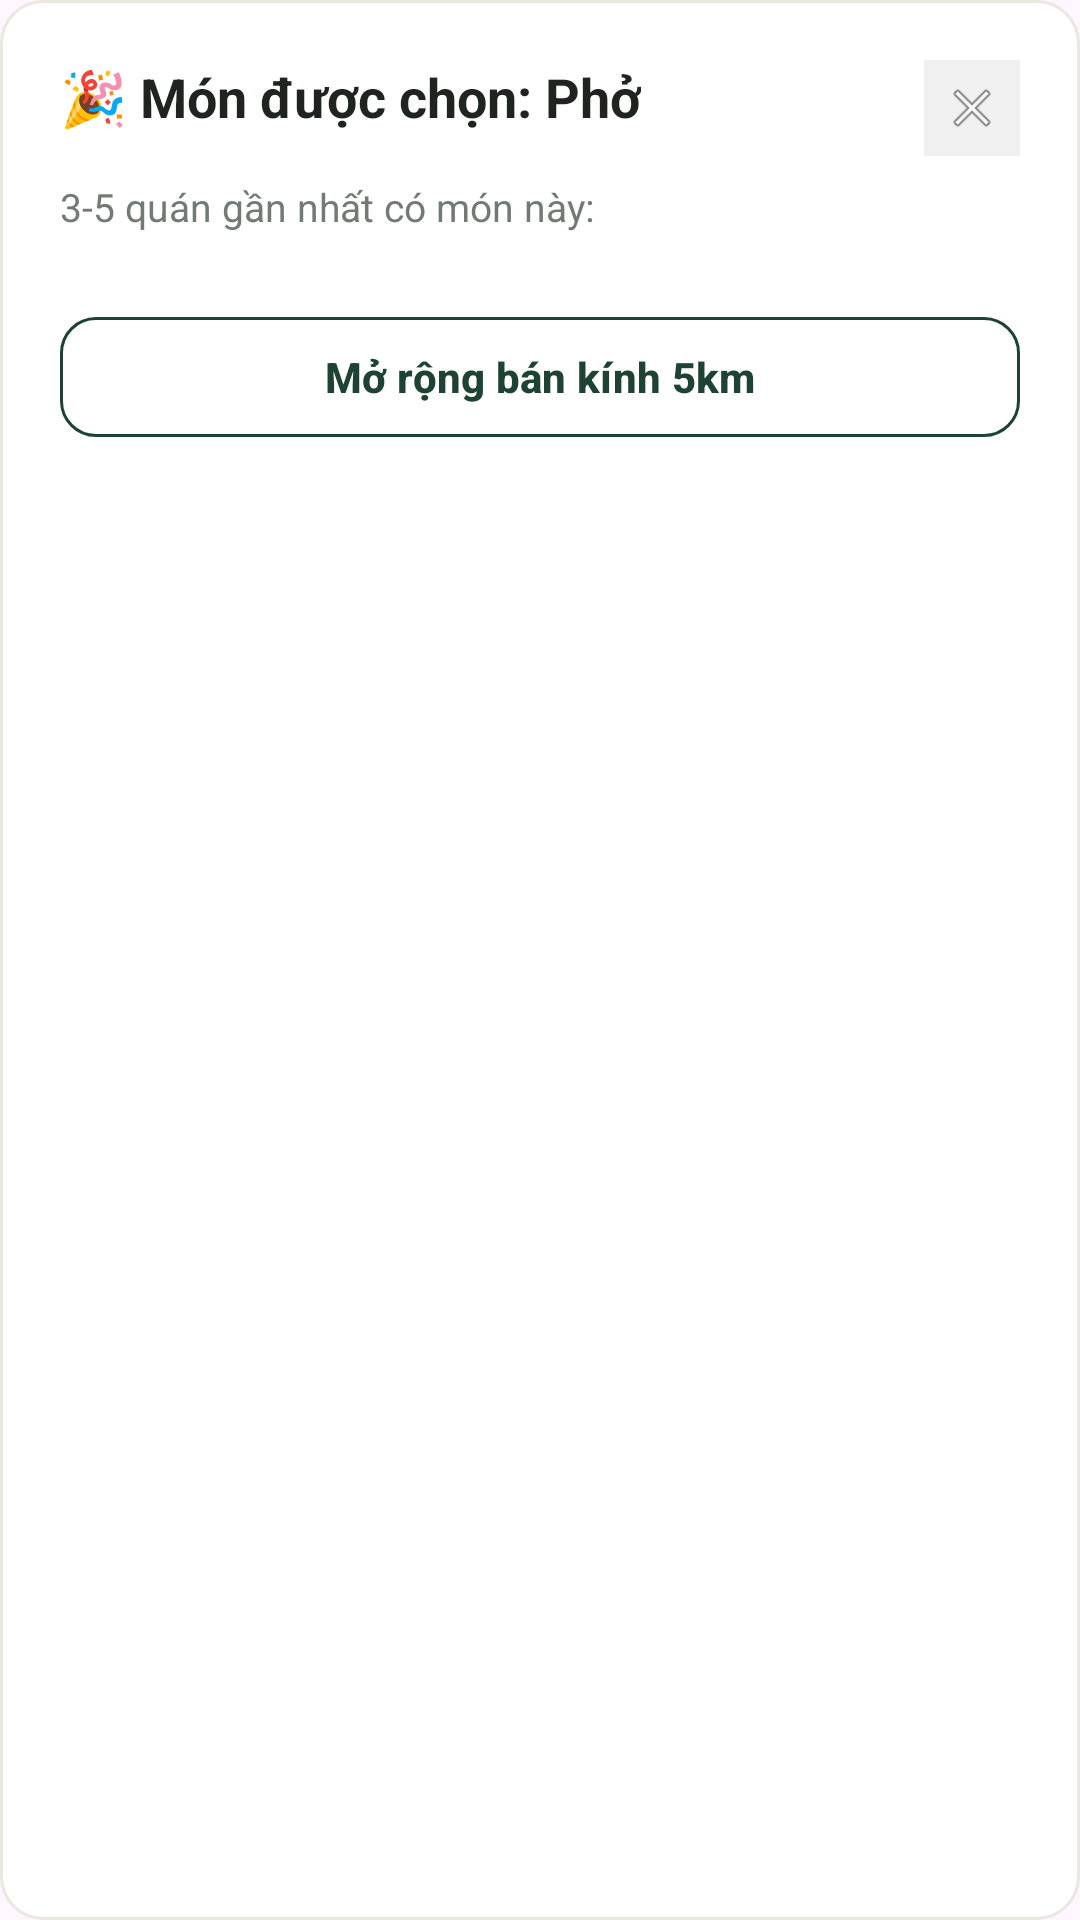

Screen size 1080×1920. Icon name, then its center in pixels as (x=x, y=y):
Close: (x=972, y=108)
